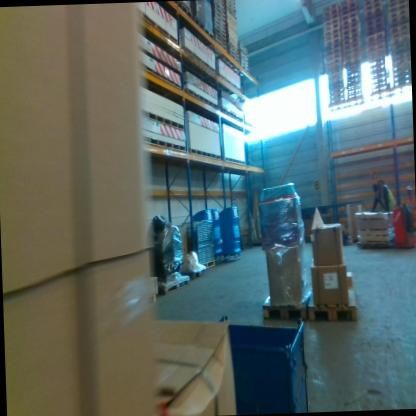pallet: (304, 282, 357, 324), (261, 287, 313, 323), (158, 272, 193, 298), (357, 239, 395, 250), (188, 264, 205, 280), (389, 1, 408, 14), (390, 33, 410, 45), (179, 2, 193, 19), (390, 22, 409, 34), (324, 20, 341, 33), (341, 9, 358, 22), (390, 28, 410, 39), (389, 8, 409, 19), (342, 30, 360, 42), (340, 5, 358, 17), (368, 41, 386, 53), (367, 20, 385, 32), (366, 10, 384, 22), (390, 18, 409, 29), (389, 13, 408, 24), (324, 36, 341, 48), (369, 47, 386, 59), (368, 31, 385, 43), (367, 15, 384, 27), (342, 41, 360, 52), (342, 36, 360, 47), (368, 37, 386, 48), (367, 26, 385, 37), (365, 5, 383, 16), (365, 0, 383, 11), (193, 15, 205, 31), (324, 16, 340, 28), (325, 56, 342, 67), (325, 46, 342, 57), (324, 31, 341, 42), (324, 26, 341, 37), (343, 51, 360, 62), (342, 25, 359, 36), (341, 15, 358, 26), (341, 0, 358, 11), (201, 257, 215, 270), (325, 62, 343, 72), (342, 47, 360, 57), (341, 20, 359, 30), (325, 41, 341, 52), (324, 11, 340, 22), (323, 2, 339, 13), (389, 0, 408, 9), (325, 52, 342, 62), (323, 7, 339, 17), (329, 85, 344, 95), (329, 80, 344, 90), (330, 90, 344, 100), (329, 71, 343, 81), (204, 27, 214, 40), (329, 76, 343, 85), (330, 96, 345, 104), (364, 0, 382, 6), (340, 0, 357, 6), (388, 0, 407, 3)
pallet_truck: (387, 184, 416, 250)
